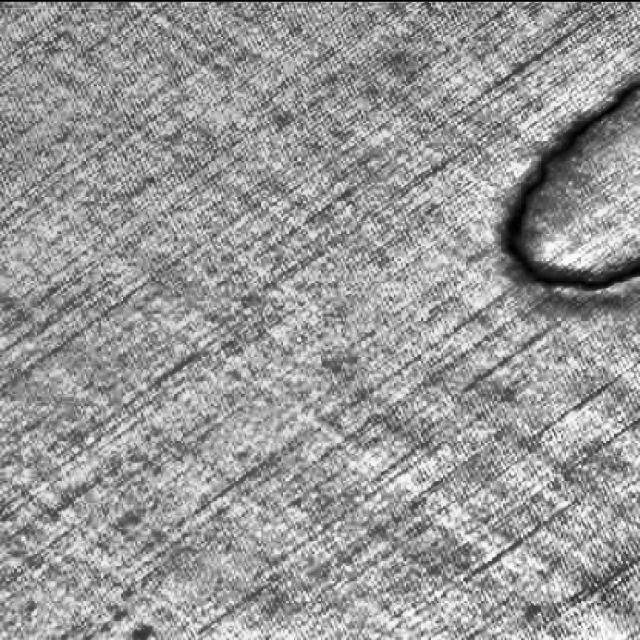objects: (486, 63, 640, 311)
